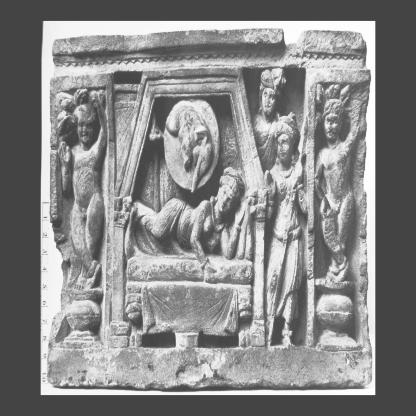buddha-sleeping: (117, 168, 256, 279)
